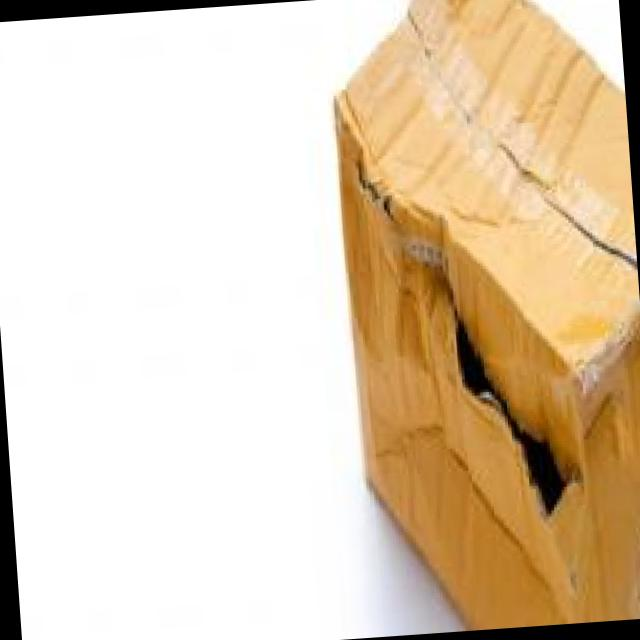crushed: (389, 1, 625, 288), (340, 304, 441, 536)
tear: (442, 318, 586, 524), (348, 157, 388, 217)
